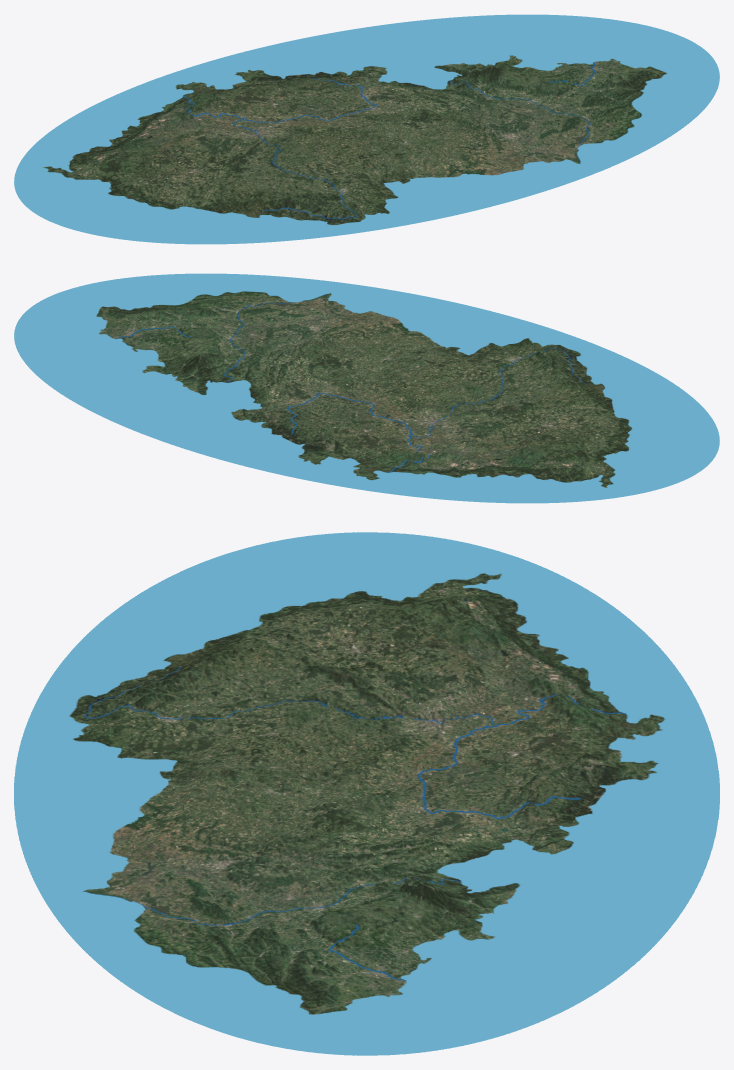
Rendered from CZE-previa-terrain.glb.
The picture shows the model from 3 angles, top to bottom: view 1: azimuth 30°, elevation 25°; view 2: azimuth 150°, elevation 25°; view 3: azimuth 270°, elevation 25°; orthographic projection. The views are drawn at different scales.
Parts seen in each view (by area): view 1: Chéquia; view 2: Chéquia; view 3: Chéquia.
Boxes of the visible parts, bbox=[...] form: Chéquia: bbox=[14, 14, 719, 244]; Chéquia: bbox=[14, 273, 719, 503]; Chéquia: bbox=[14, 532, 719, 1055].
Size of the model in its own units: 2.08 by 0.0392 by 1.19.
1 material, 1 textured.
